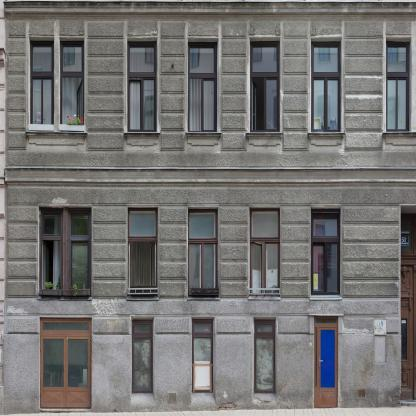Building Outline: (5, 0, 416, 412)
Door: (41, 336, 90, 407), (400, 205, 416, 403), (400, 264, 416, 399), (319, 327, 336, 407)
Facade: (5, 0, 416, 412)
Floor: (5, 17, 416, 167), (5, 184, 416, 304)
Floor Slab: (5, 167, 416, 184), (5, 304, 416, 308)
Ground Floor: (5, 309, 416, 412)
Molding: (5, 167, 416, 184), (5, 0, 415, 17)
Sill: (25, 131, 87, 146), (246, 132, 283, 146), (308, 132, 345, 146), (124, 132, 160, 146), (186, 132, 222, 146), (383, 132, 416, 145), (38, 296, 92, 300), (310, 295, 343, 300), (126, 296, 159, 300), (188, 297, 221, 300), (248, 297, 281, 300)
Window: (188, 39, 219, 132), (250, 39, 280, 132), (128, 39, 158, 132), (188, 207, 219, 297), (311, 39, 341, 132), (250, 208, 280, 297), (128, 208, 158, 297), (311, 209, 340, 295), (386, 38, 412, 132), (60, 38, 84, 131), (30, 38, 54, 131), (38, 208, 63, 297), (67, 208, 92, 297), (131, 317, 154, 393), (192, 317, 214, 393), (254, 317, 276, 393), (41, 320, 90, 332), (401, 220, 411, 251), (315, 319, 337, 323), (316, 327, 317, 388)
